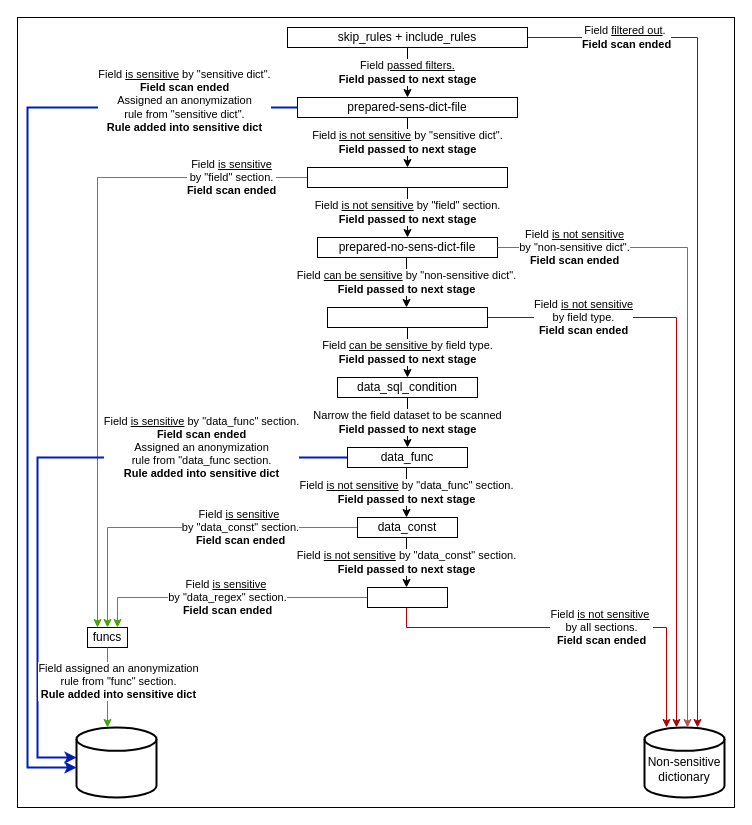
This 752x825 diagram has some shape labels left out. The centre of each missing label's shape, as x and y in pixels:
data_regex: the point at 407,597
field: the point at 407,177
sens_pg_types: the point at 407,317
Sensitive dictionary: the point at 116,762
